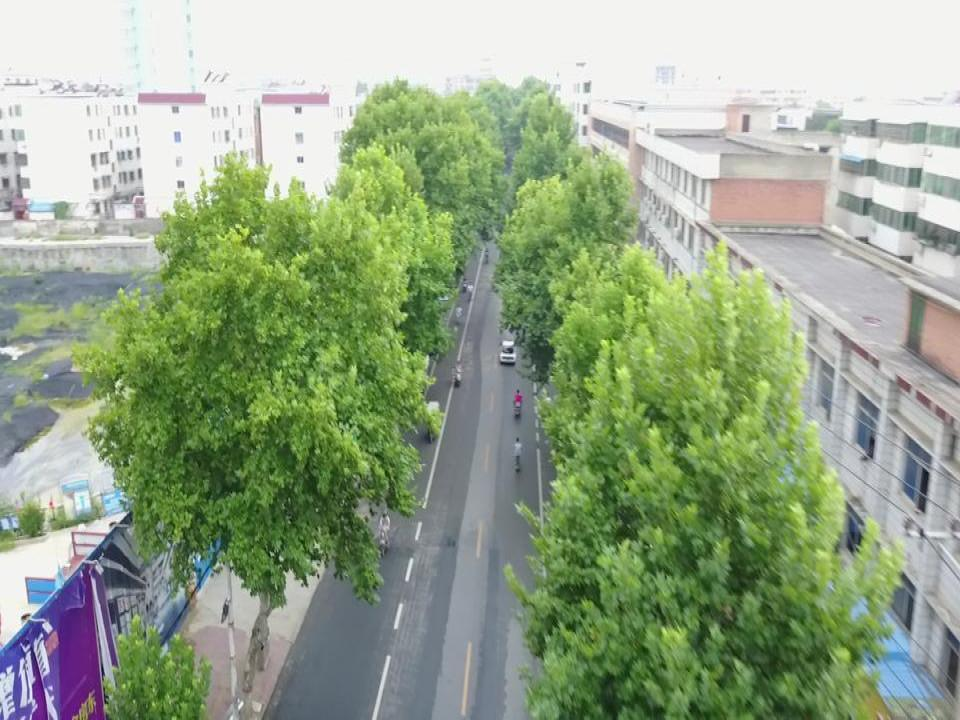car: (499, 337, 516, 364), (435, 288, 452, 305)
